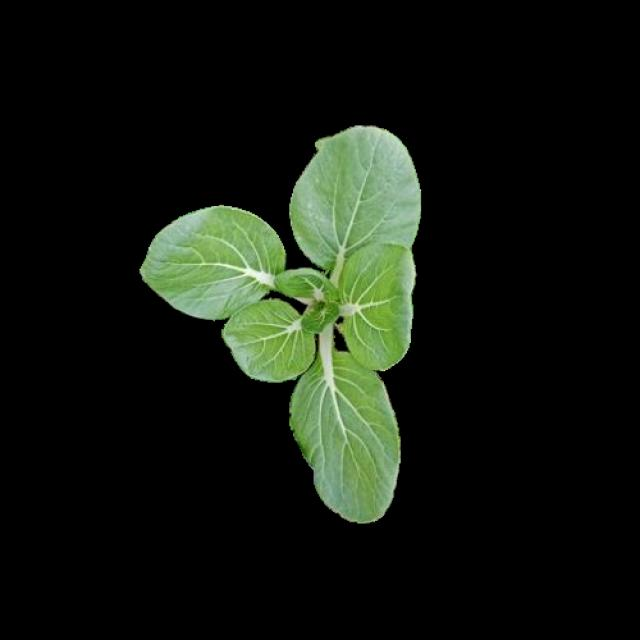healthy: (139, 124, 420, 521)
not-mature: (142, 126, 422, 524)
